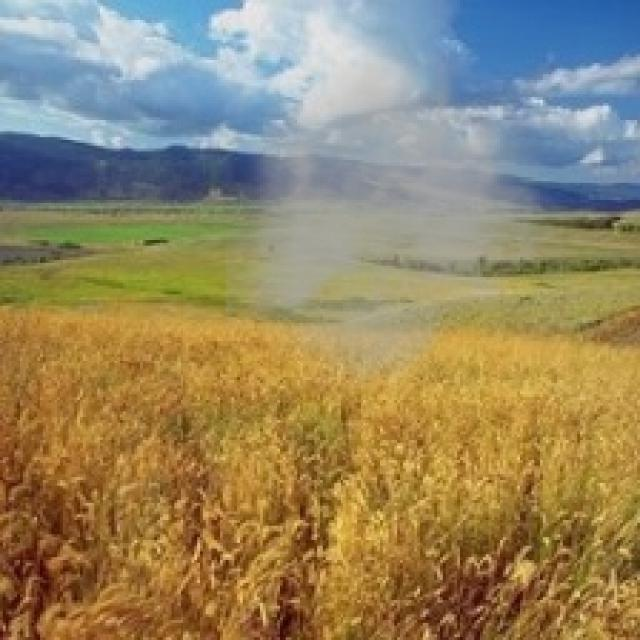smoke: (226, 26, 583, 406)
